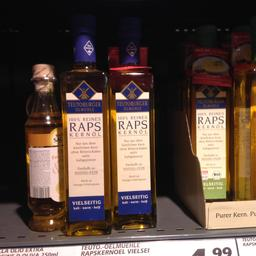oil: (58, 34, 108, 234), (108, 40, 156, 229), (24, 61, 63, 232), (190, 60, 228, 202)
